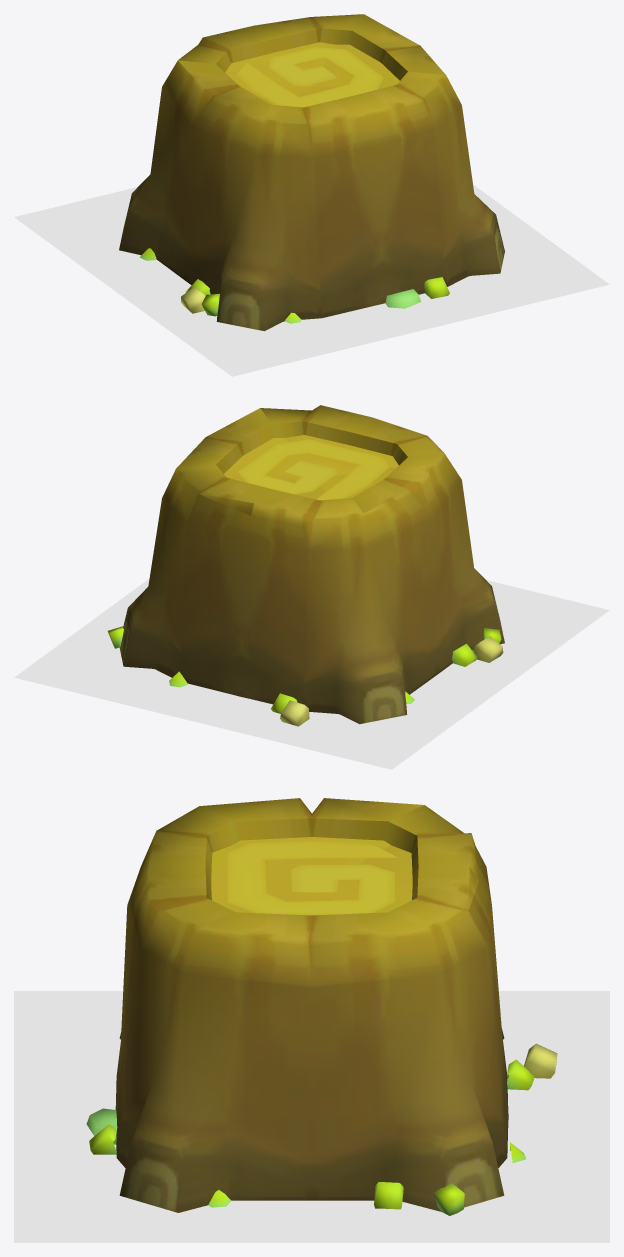
The model's file is wall_tree_small1 (merge).fbx.
3 views of the same model, one above another, from view 1: azimuth 30°, elevation 25°; view 2: azimuth 150°, elevation 25°; view 3: azimuth 270°, elevation 25° (orthographic). The views are drawn at different scales.
Visible parts, largest first — view 1: wall_tree_small1, shadow (2); view 2: wall_tree_small1, shadow (2); view 3: wall_tree_small1, shadow (2).
Boxes of the visible parts, x1=… form: wall_tree_small1: x1=119, y1=14, x2=504, y2=331; shadow (2): x1=14, y1=184, x2=609, y2=376; wall_tree_small1: x1=107, y1=405, x2=504, y2=726; shadow (2): x1=14, y1=578, x2=609, y2=769; wall_tree_small1: x1=86, y1=798, x2=557, y2=1215; shadow (2): x1=14, y1=991, x2=609, y2=1242.
Size of the model in its own units: 1.58 by 0.7745 by 1.58.
Materials: 2 (2 with a texture image).
